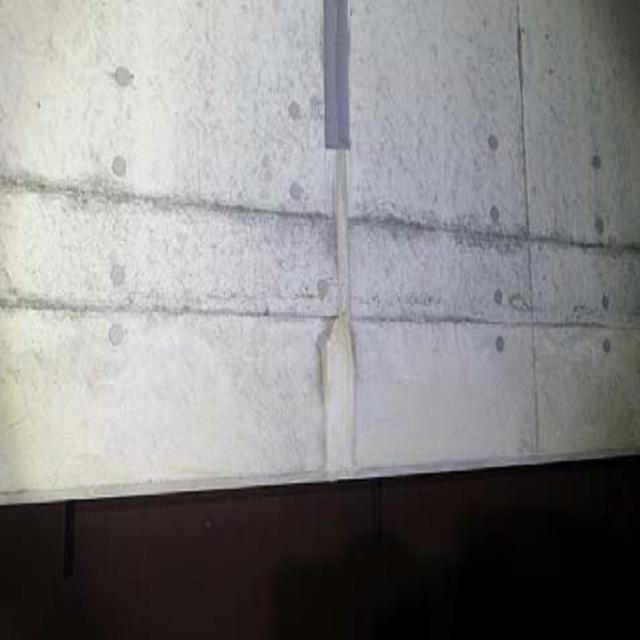freelime: (301, 304, 366, 480)
